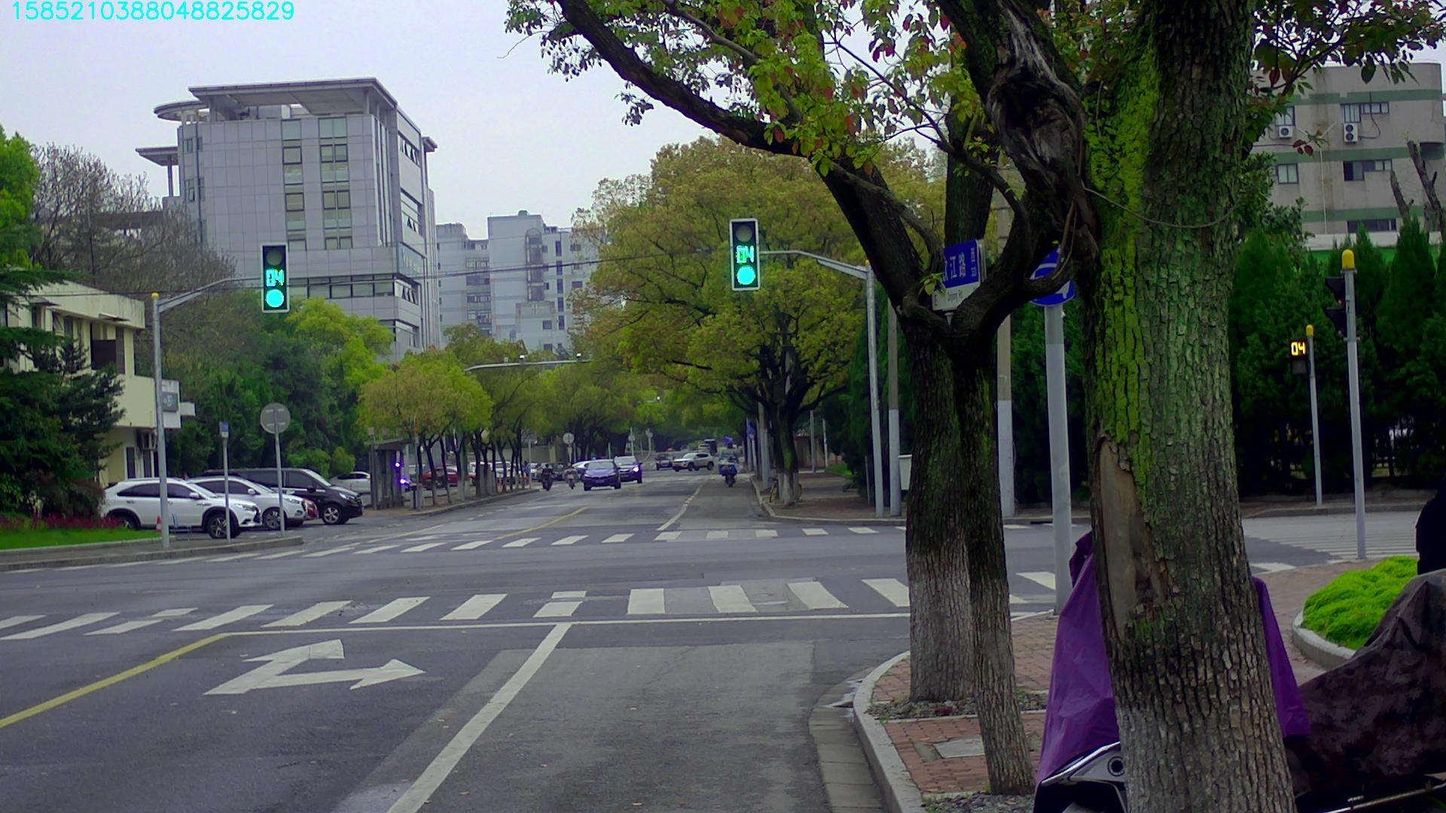green: (261, 244, 287, 311), (731, 221, 757, 288)
